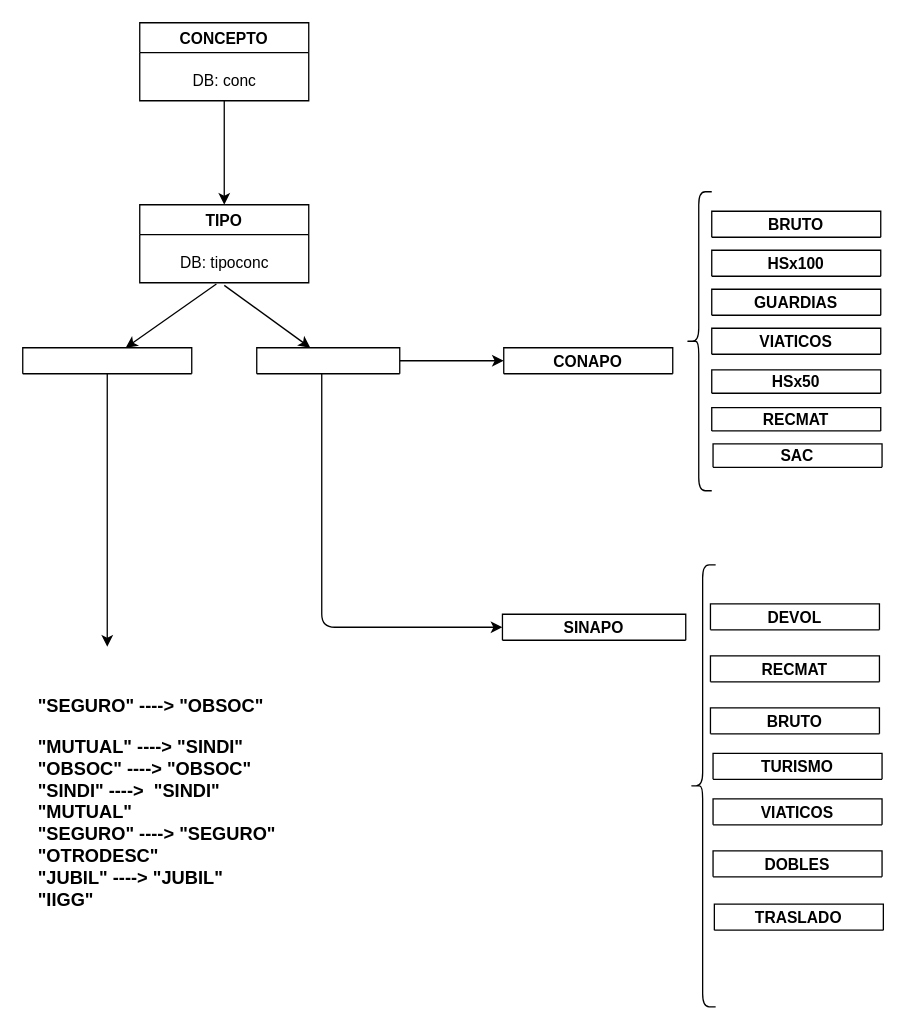
Some shapes in this 906 by 1030 pixel diagram are drawn without their labels. Each missing label, with the centre of its shape:
"DESCU" goes at point (106, 360).
"HABER" goes at point (327, 360).
